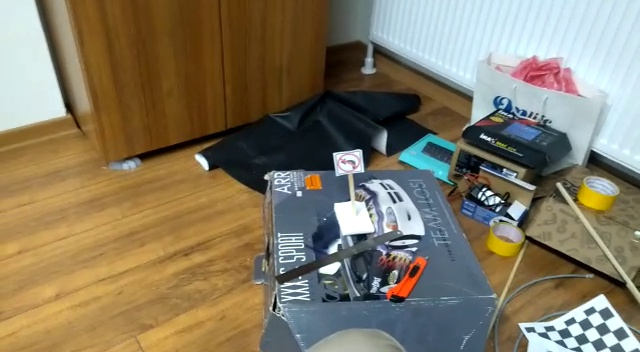sola_donulmez: (337, 149, 361, 173)
